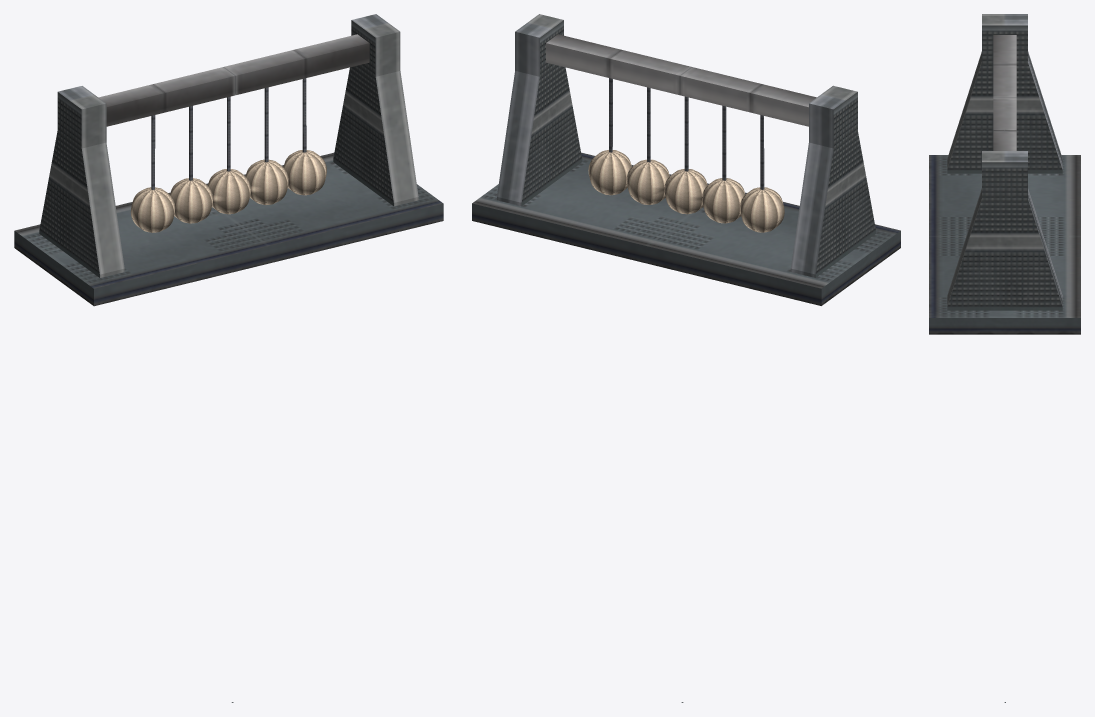
Rendered from decoracaomesa1.fbx.
3 renders of one model, left to right at view 1: azimuth 30°, elevation 25°; view 2: azimuth 150°, elevation 25°; view 3: azimuth 270°, elevation 25°, orthographic. The views are drawn at different scales.
Visible parts, largest first — view 1: Cylinder.001; view 2: Cylinder.001; view 3: Cylinder.001.
Part boxes in pixels (x1=…): Cylinder.001: x1=14, y1=14, x2=443, y2=702; Cylinder.001: x1=472, y1=14, x2=900, y2=702; Cylinder.001: x1=929, y1=14, x2=1080, y2=702.
Bounding box in the file's own units: 0.6964 × 1.22 × 0.2743.
